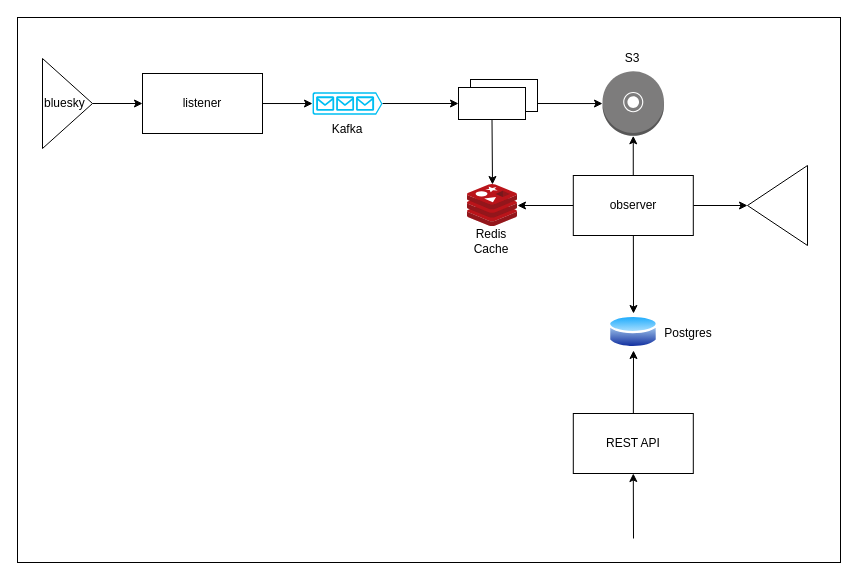
This 858x580 diagram has some shape labels left out. The shapes that lost their labels are listed below. From the top down, each one's centre as x and y in pixels, then its label:
(x=492, y=103): checker
(x=777, y=205): LLM
